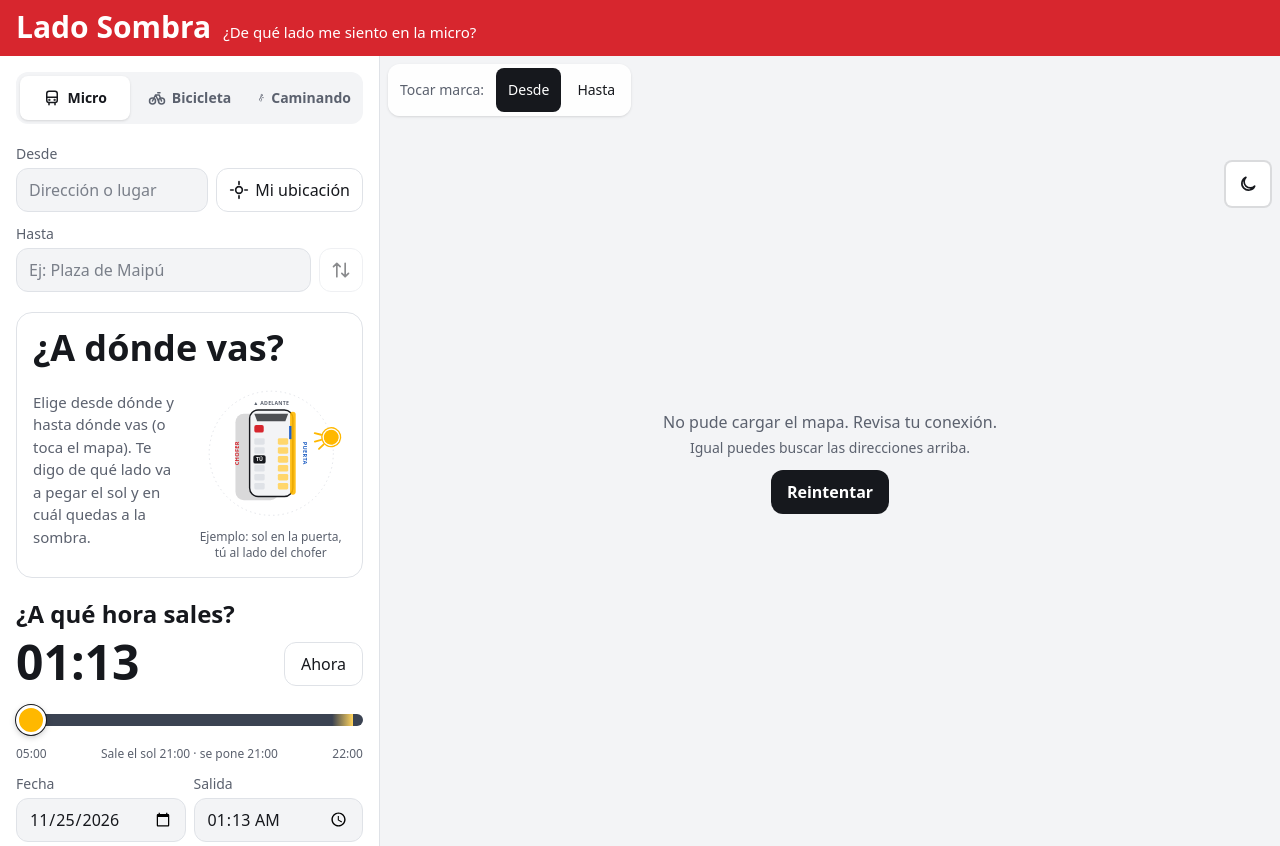
Test: App › lugar no encontrado muestra un mensaje claro
Step 1. Click the button "Micro" → (75, 98), box [20, 76, 130, 120]
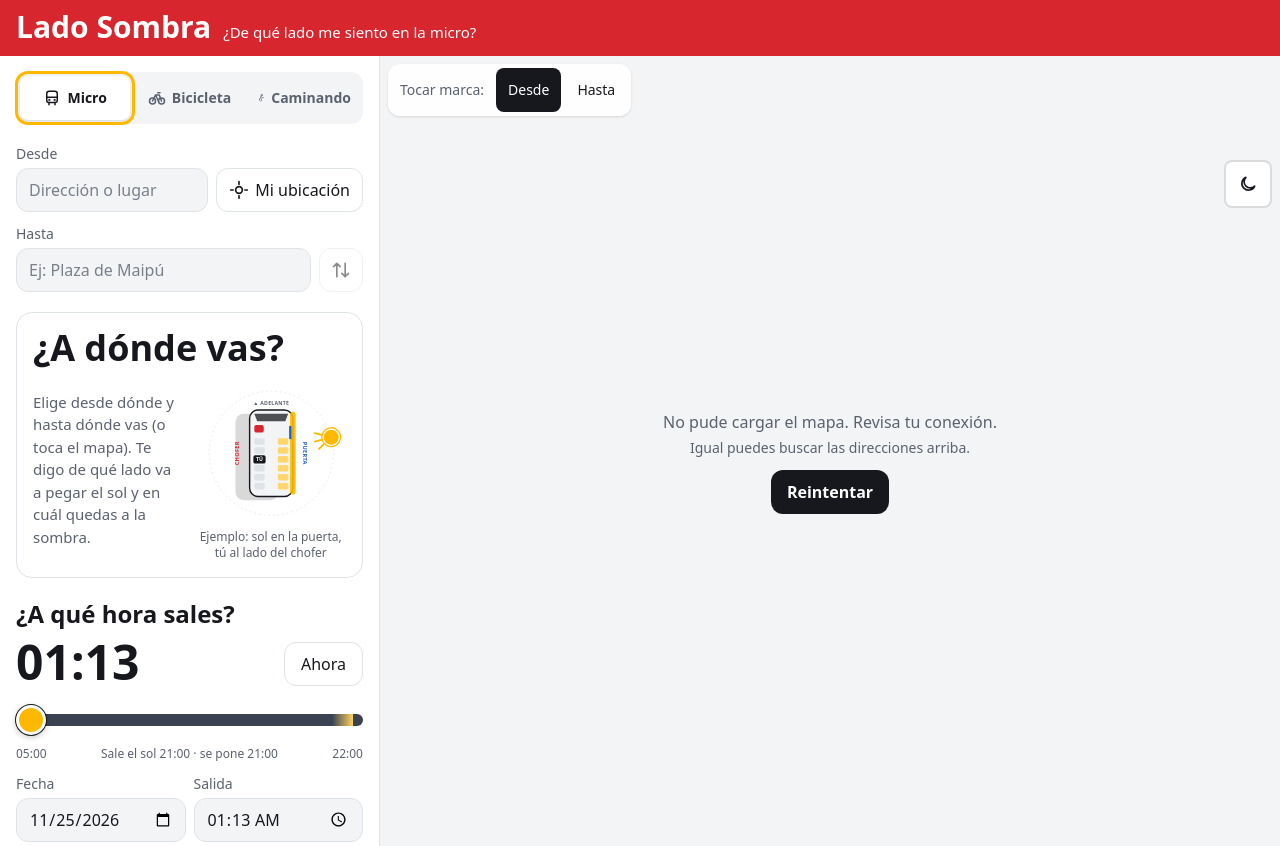
Step 2. Type "zzzzzz" into the search field labelled "Desde" → (112, 190), box [16, 168, 208, 212]
Then press Enter
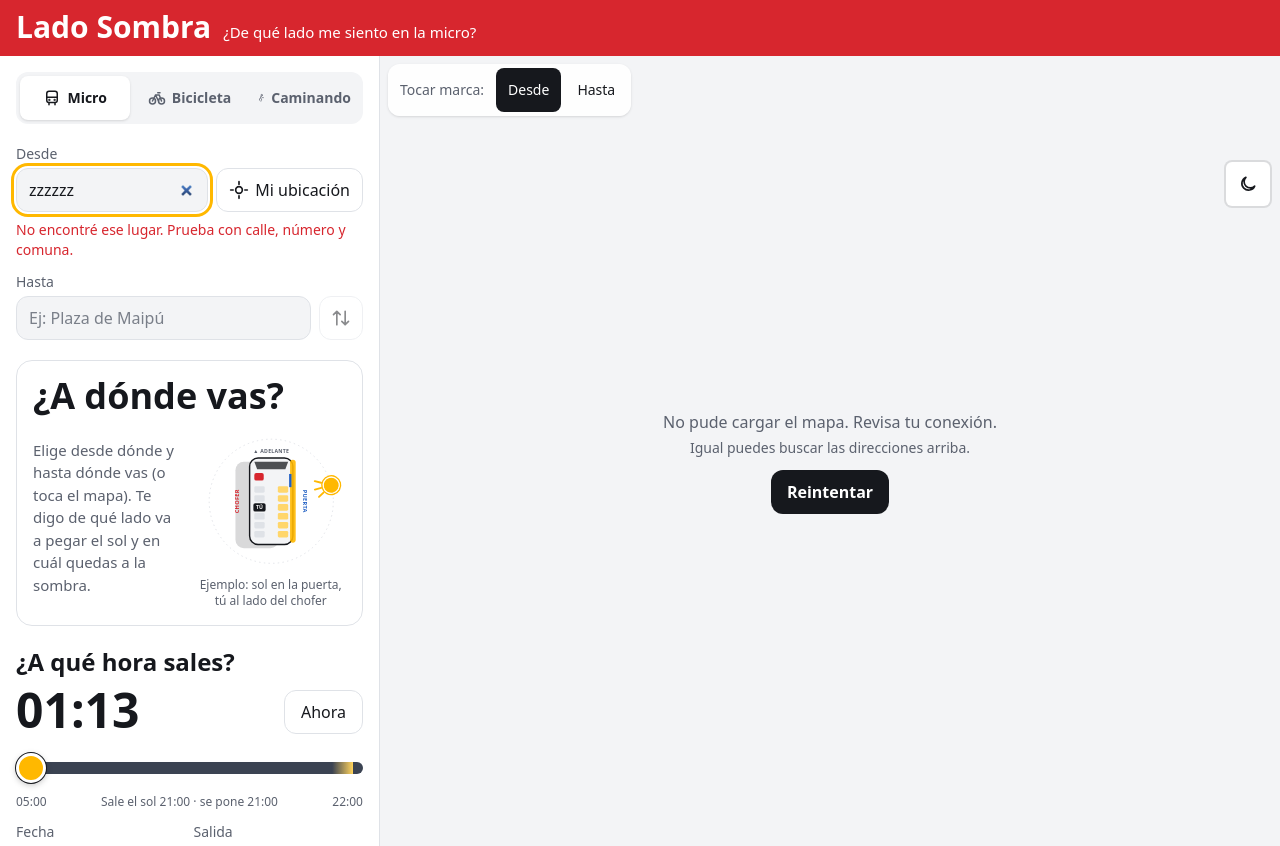
Check: the text "No encontré ese lugar. Prueba con calle, número y comuna." is shown, box [16, 220, 363, 260]
